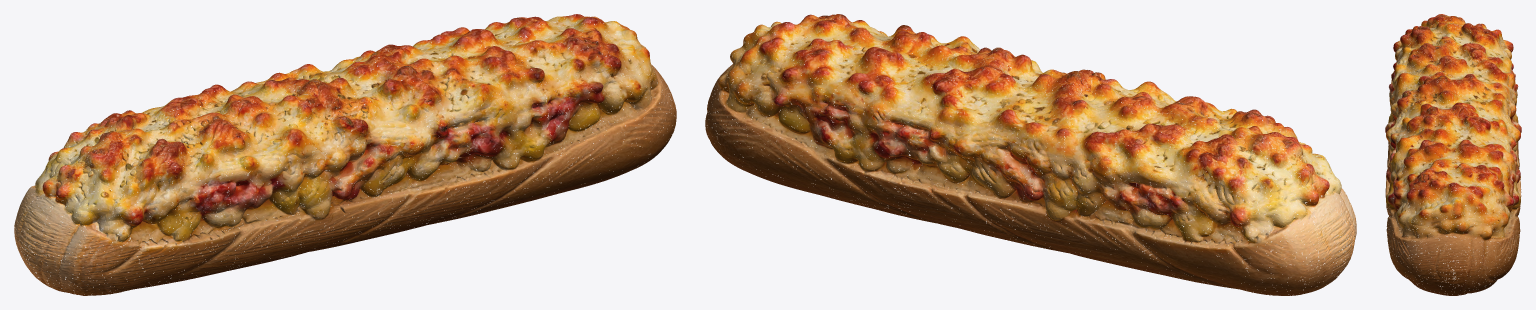
The model's file is cheesy-baguette.glb.
3 views of the same model, side by side, from view 1: azimuth 30°, elevation 25°; view 2: azimuth 150°, elevation 25°; view 3: azimuth 270°, elevation 25° (orthographic). The views are drawn at different scales.
Parts seen in each view (by area): view 1: world; view 2: world; view 3: world.
Part boxes in pixels (x1,y1,x2,y2): world: (14,14,676,295); world: (705,14,1356,295); world: (1385,14,1521,295).
Size of the model in its own units: 0.3 by 0.0691 by 0.0791.
1 material, 1 textured.
